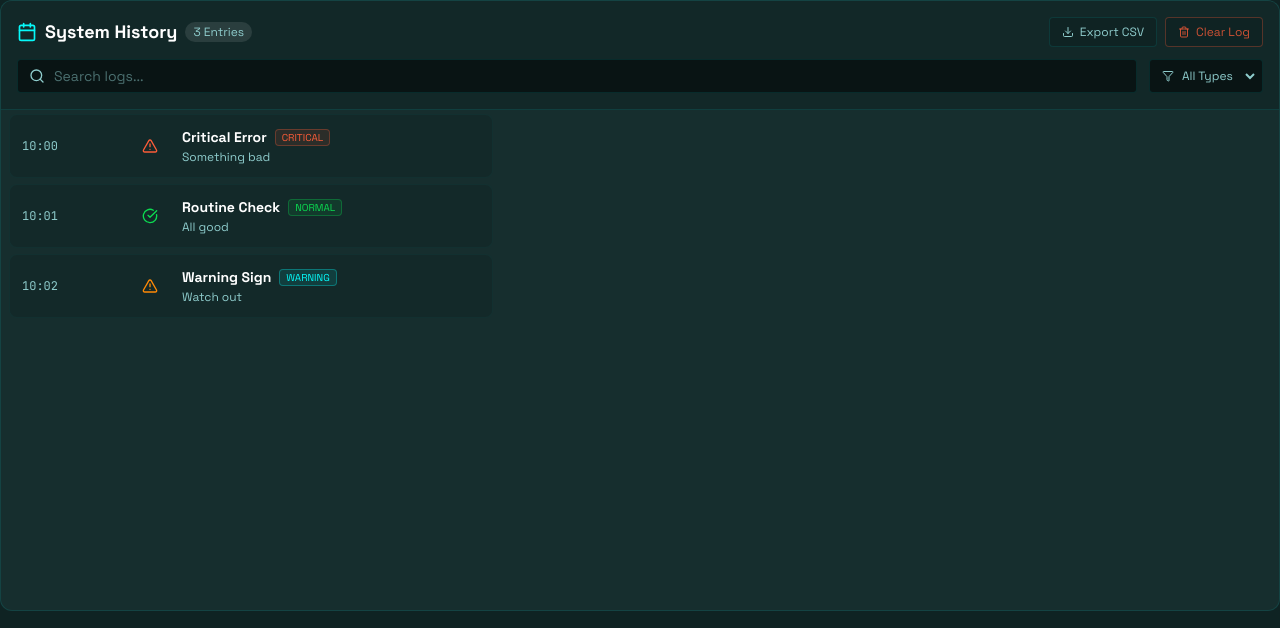
HistoryPanel › filters by search term
Type "Critical" into the field with placeholder "Search logs..." at (577, 76), box [17,59,1137,93]
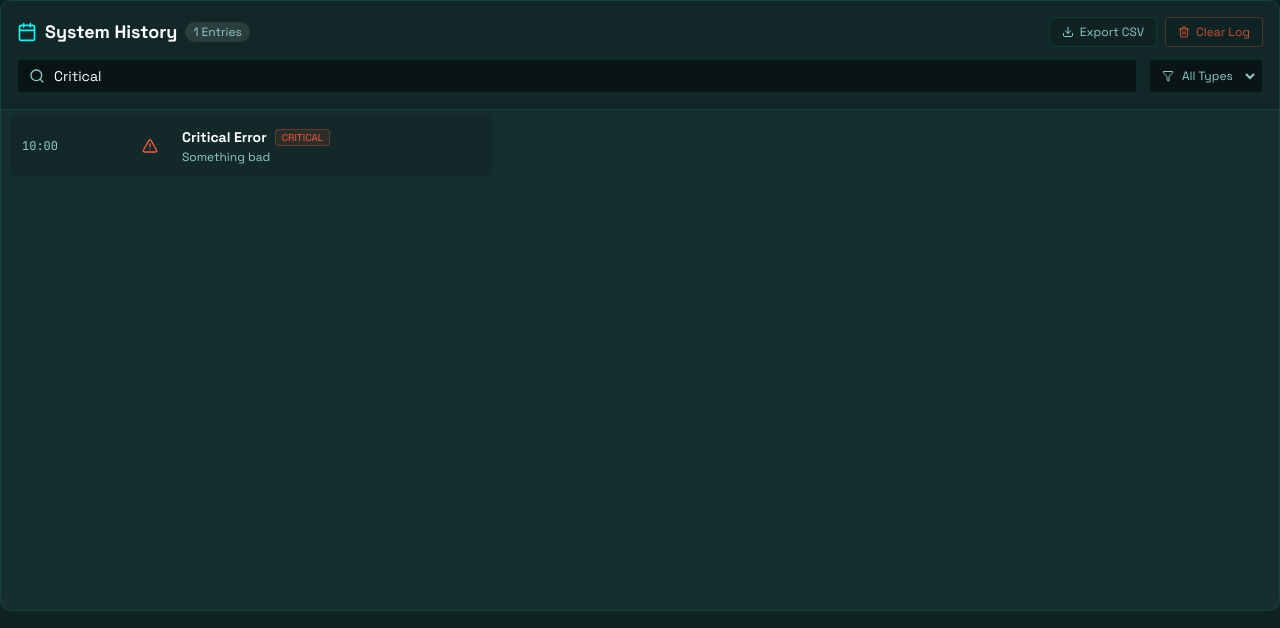
Expected: the text "Critical Error" is shown, [182,127,267,147]
Result: the text "Routine Check" is gone
